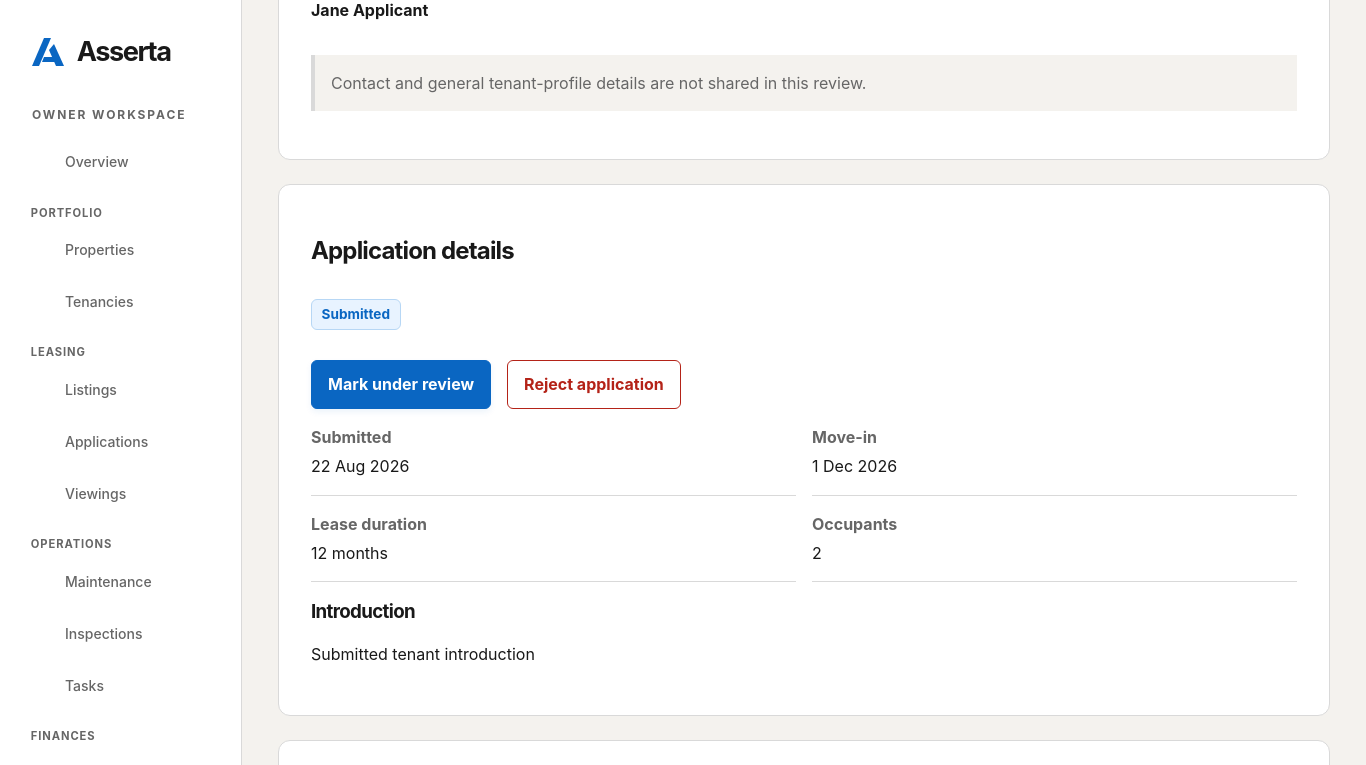
Test: landlord application detail › offers only the approved SUBMITTED actions and refreshes the timeline after review
The image size is (1366, 765).
(page scrolled)
Step 1. Click the button "Mark under review" → [401, 384], box x1=311 y1=360 x2=491 y2=409
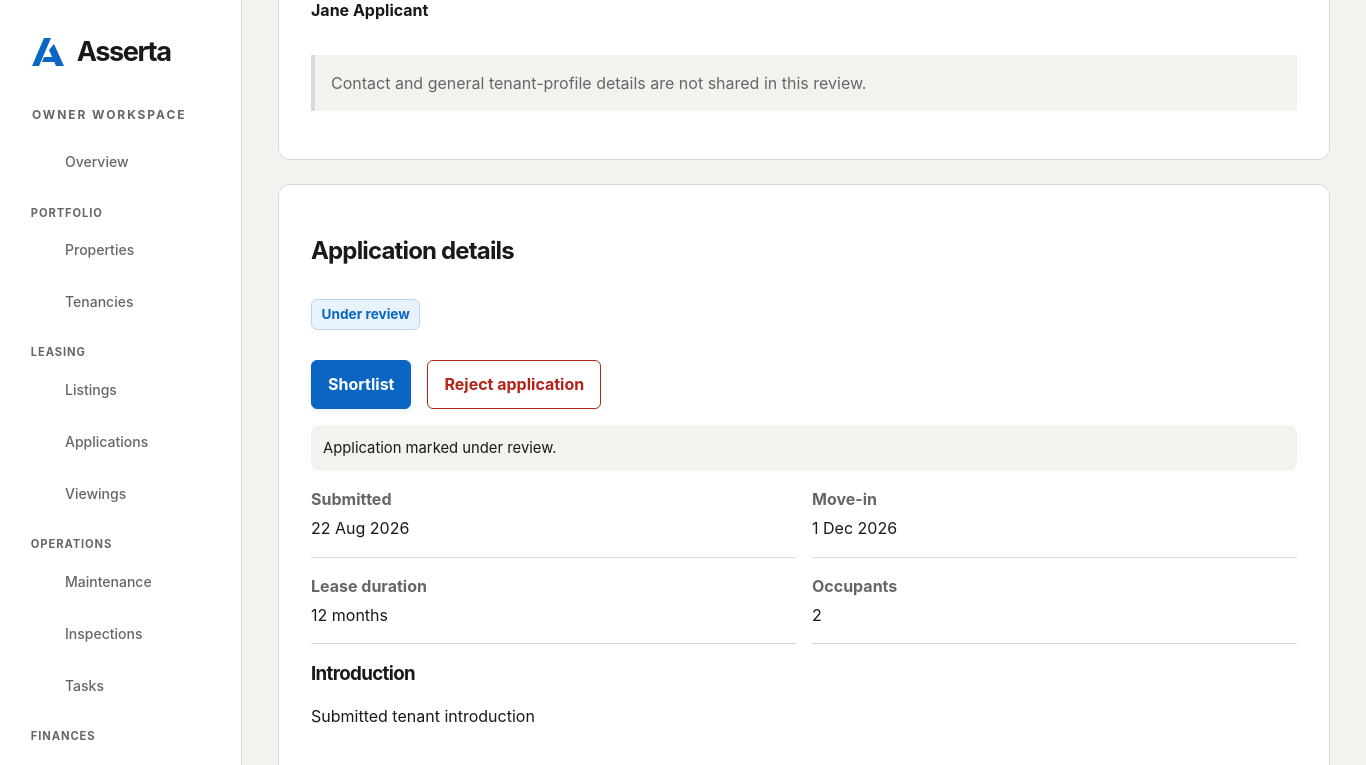
Expected: the text "Application marked under review." is shown, x1=311 y1=425 x2=1297 y2=471
Expected: the button "Shortlist" is shown, x1=311 y1=360 x2=412 y2=409
Expected: the text "Under review" is shown, x1=311 y1=299 x2=420 y2=330
